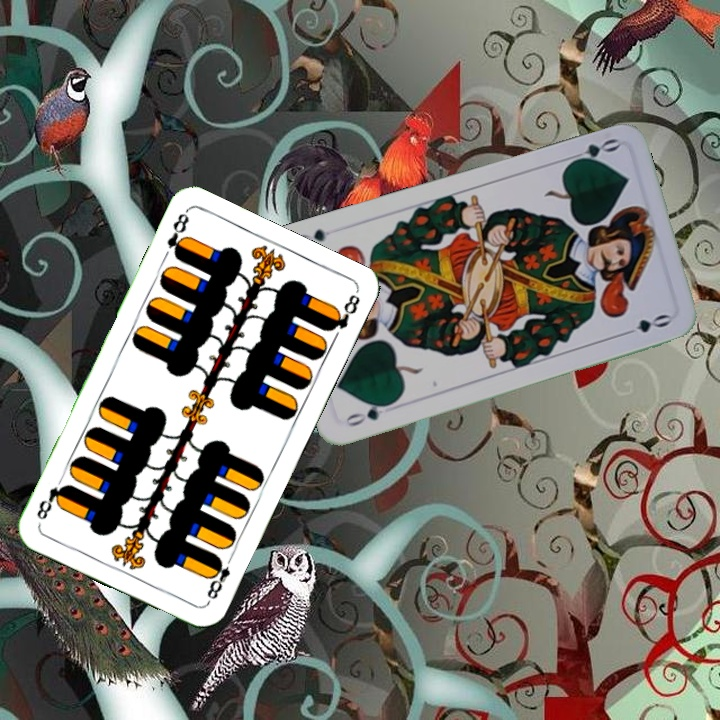E8: (202, 551, 236, 606), (163, 208, 192, 262)
GO: (563, 134, 622, 168), (341, 398, 397, 429)
